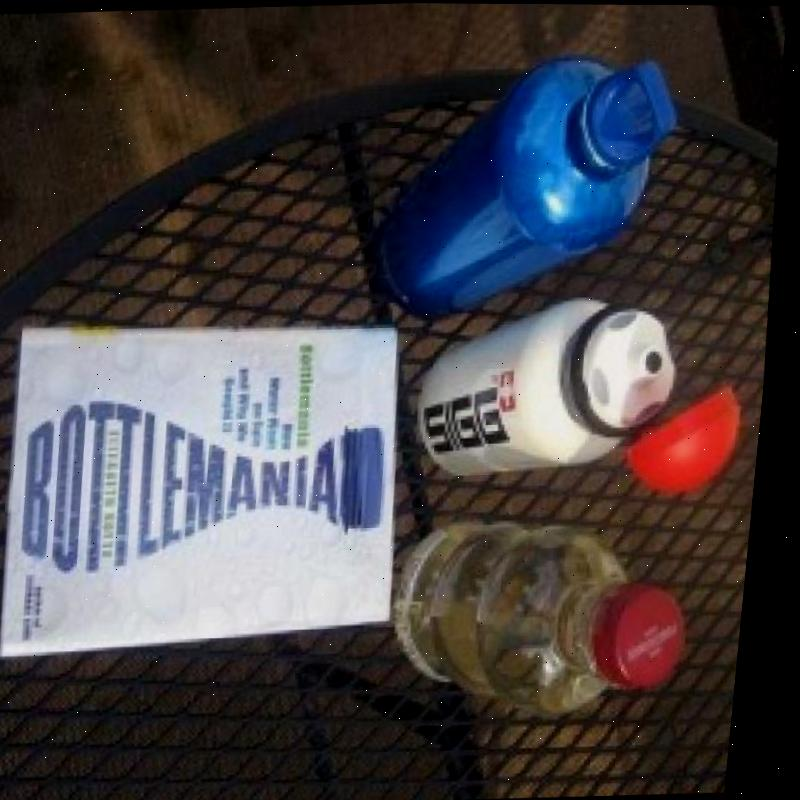botella: (395, 508, 712, 720)
